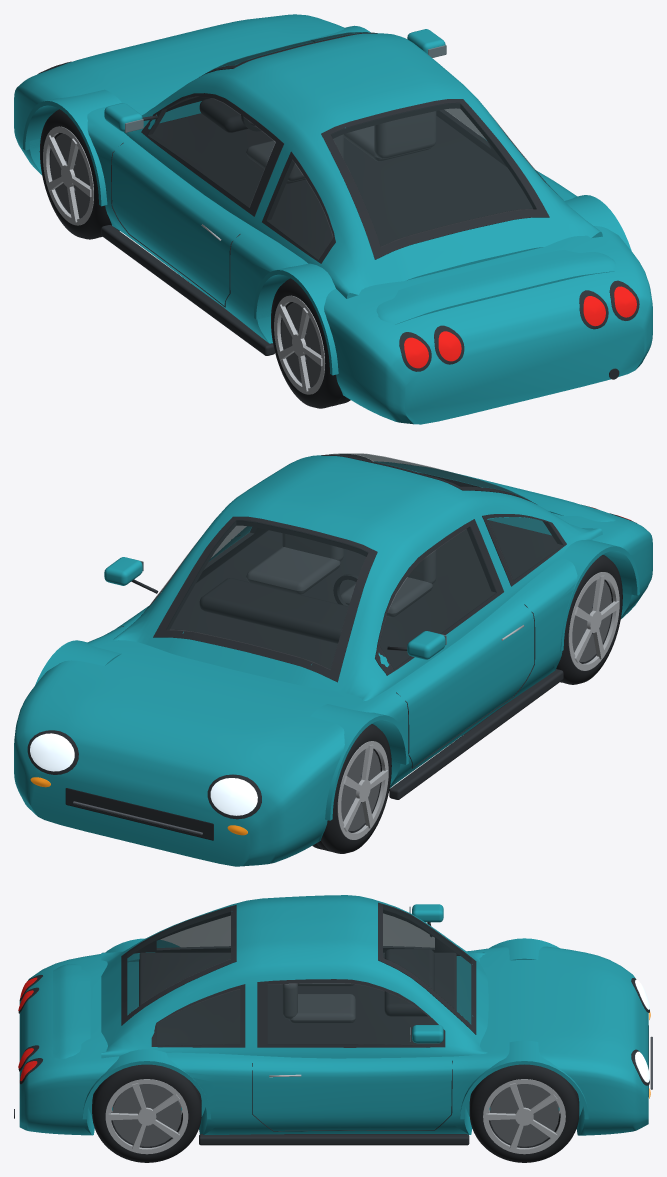
The model's file is lightweight-sports.glb.
3 views of the same model, one above another, from view 1: azimuth 30°, elevation 25°; view 2: azimuth 150°, elevation 25°; view 3: azimuth 270°, elevation 25° (orthographic). The views are drawn at different scales.
Parts seen in each view (by area): view 1: Body geometry, Running wheel geometry.002, Running wheel geometry; view 2: Body geometry, Running wheel geometry, Running wheel geometry.002; view 3: Body geometry, Running wheel geometry.001, Running wheel geometry.003.
Boxes of the visible parts, <box> form: Body geometry: <box>14,14,652,424</box>; Running wheel geometry.002: <box>271,278,350,408</box>; Running wheel geometry: <box>39,109,119,239</box>; Body geometry: <box>14,453,652,866</box>; Running wheel geometry: <box>312,724,391,853</box>; Running wheel geometry.002: <box>556,555,622,684</box>; Body geometry: <box>14,895,652,1145</box>; Running wheel geometry.001: <box>469,1064,579,1162</box>; Running wheel geometry.003: <box>92,1064,201,1162</box>.
Size of the model in its own units: 1.36 by 0.9105 by 2.83.
